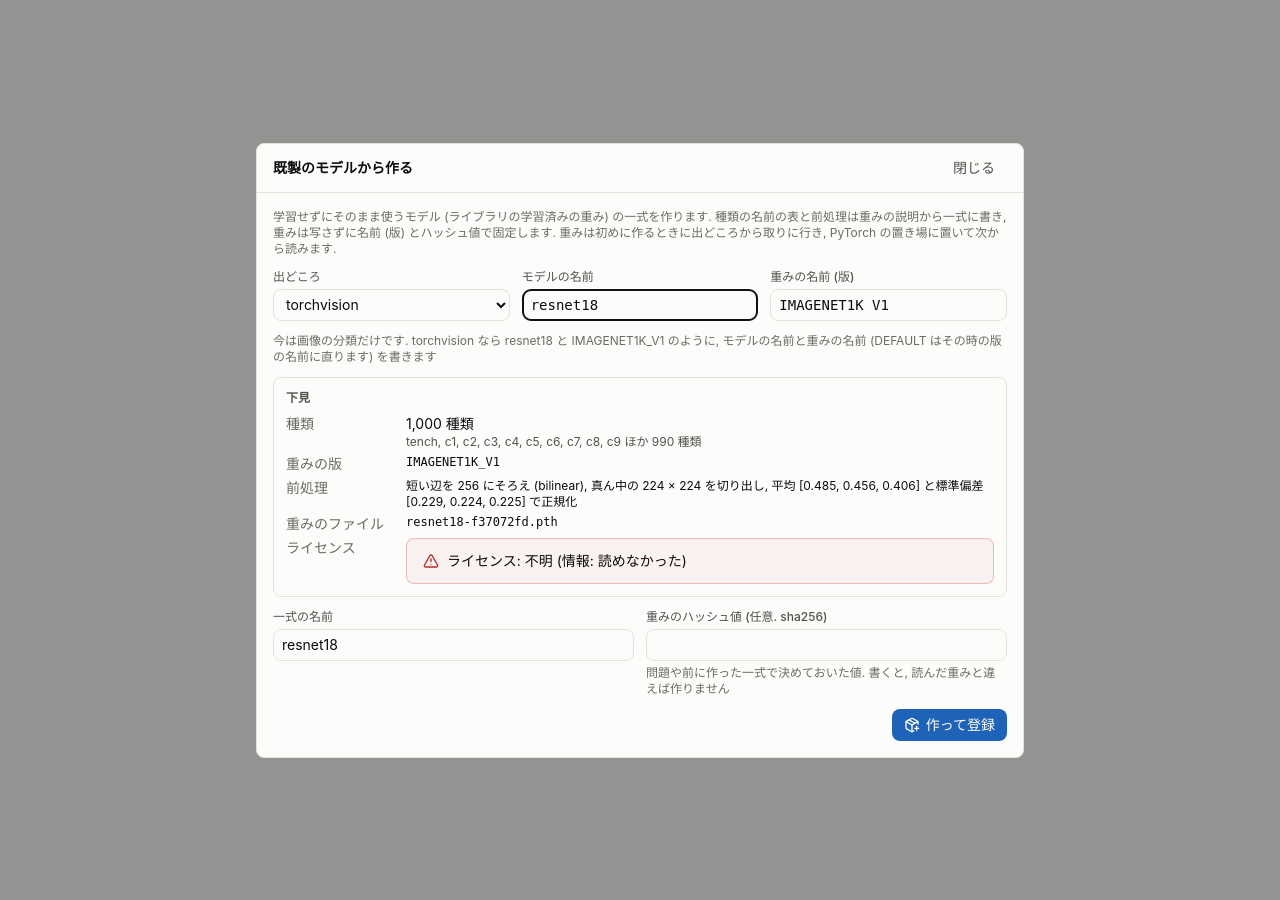
Test: 既製のモデルから作る対話 › 形の違うハッシュ値では作れない
The width and height of the screenshot is (1280, 900).
Expected: the text "1,000 種類" is shown, [406, 414, 702, 448]
Type "abc" into the field labelled "重みのハッシュ値 (任意. sha256)".
click(826, 644); type("abc")  # box [646, 628, 1007, 660]
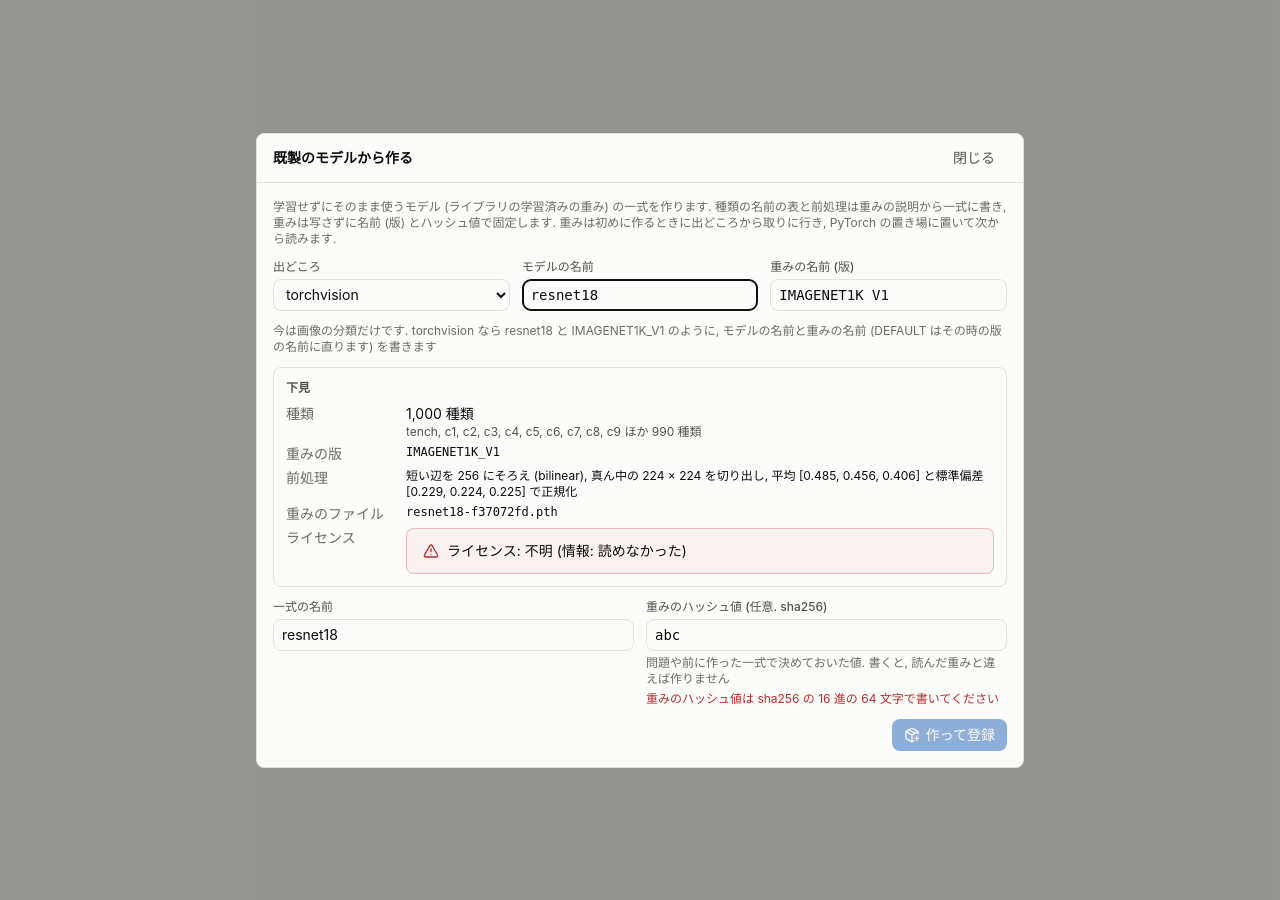
Result: the text "重みのハッシュ値は sha256 の 16 進の 64 文字で書いてください" is shown at [646, 690, 1007, 706]
Result: the button "作って登録" is disabled at [892, 718, 1007, 750]
